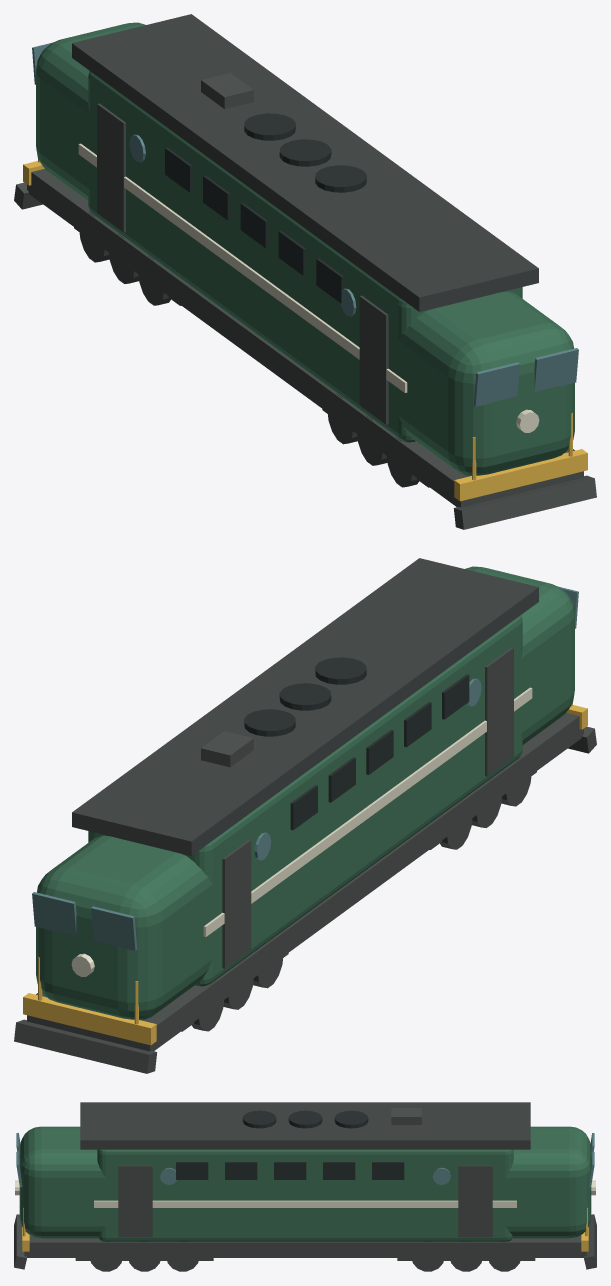
The model's file is nord-di-3b_lod0.glb.
The picture shows the model from 3 angles, top to bottom: view 1: azimuth 30°, elevation 25°; view 2: azimuth 150°, elevation 25°; view 3: azimuth 270°, elevation 25°; orthographic projection. The views are drawn at different scales.
Visible parts, largest first — view 1: RF_Di3_Roof, RF_Di3_Body, RF_Di3_RoundedNose.001, RF_Di3_Chassis, RF_Di3_RoundedNose, RF_Di3_Stripe.001, RF_Di3_Plow.001, RF_Di3_CabDoor.001, RF_Di3_CabDoor.002, RF_Di3_BufferBeam.001, RF_Di3_FrontWindow.001, RF_Di3_FrontWindow.002 (+9 smaller); view 2: RF_Di3_Roof, RF_Di3_Body, RF_Di3_RoundedNose, RF_Di3_Chassis, RF_Di3_RoundedNose.001, RF_Di3_Stripe.001, RF_Di3_Plow, RF_Di3_CabDoor.002, RF_Di3_CabDoor.001, RF_Di3_BufferBeam, RF_Di3_FrontWindow.003, RF_Di3_FrontWindow (+9 smaller); view 3: RF_Di3_Body, RF_Di3_Roof, RF_Di3_Chassis, RF_Di3_RoundedNose.001, RF_Di3_RoundedNose, RF_Di3_Stripe, RF_Di3_CabDoor.003, RF_Di3_CabDoor, RF_Di3_CoolingGrille.006, RF_Di3_CoolingGrille.007, RF_Di3_CoolingGrille.008, RF_Di3_CoolingGrille.009 (+15 smaller).
Boxes of the visible parts, x1,y1,x2,y2 form: RF_Di3_Roof: [72, 14, 538, 311]; RF_Di3_Body: [88, 71, 522, 442]; RF_Di3_RoundedNose.001: [398, 291, 574, 476]; RF_Di3_Chassis: [27, 169, 583, 507]; RF_Di3_RoundedNose: [36, 22, 145, 200]; RF_Di3_Stripe.001: [78, 143, 407, 392]; RF_Di3_Plow.001: [453, 475, 596, 529]; RF_Di3_CabDoor.001: [359, 295, 388, 424]; RF_Di3_CabDoor.002: [97, 103, 125, 232]; RF_Di3_BufferBeam.001: [454, 449, 587, 501]; RF_Di3_FrontWindow.001: [473, 362, 519, 406]; RF_Di3_FrontWindow.002: [534, 348, 578, 391]; RF_Di3_Roof: [72, 558, 538, 855]; RF_Di3_Body: [88, 615, 522, 986]; RF_Di3_RoundedNose: [36, 835, 213, 1020]; RF_Di3_Chassis: [27, 713, 583, 1051]; RF_Di3_RoundedNose.001: [465, 566, 574, 744]; RF_Di3_Stripe.001: [203, 687, 532, 936]; RF_Di3_Plow: [14, 1019, 157, 1073]; RF_Di3_CabDoor.002: [222, 839, 251, 968]; RF_Di3_CabDoor.001: [485, 647, 513, 776]; RF_Di3_BufferBeam: [23, 993, 156, 1045]; RF_Di3_FrontWindow.003: [91, 906, 137, 950]; RF_Di3_FrontWindow: [32, 892, 76, 935]; RF_Di3_Body: [97, 1149, 513, 1241]; RF_Di3_Roof: [80, 1102, 530, 1149]; RF_Di3_Chassis: [24, 1235, 586, 1257]; RF_Di3_RoundedNose.001: [19, 1126, 106, 1238]; RF_Di3_RoundedNose: [504, 1126, 591, 1238]; RF_Di3_Stripe: [94, 1200, 516, 1207]; RF_Di3_CabDoor.003: [118, 1165, 152, 1237]; RF_Di3_CabDoor: [458, 1165, 492, 1237]; RF_Di3_CoolingGrille.006: [176, 1162, 208, 1179]; RF_Di3_CoolingGrille.007: [225, 1162, 257, 1179]; RF_Di3_CoolingGrille.008: [274, 1162, 306, 1179]; RF_Di3_CoolingGrille.009: [323, 1162, 355, 1179].
Bounding box in the file's own units: 3.25 × 5.05 × 19.03.
